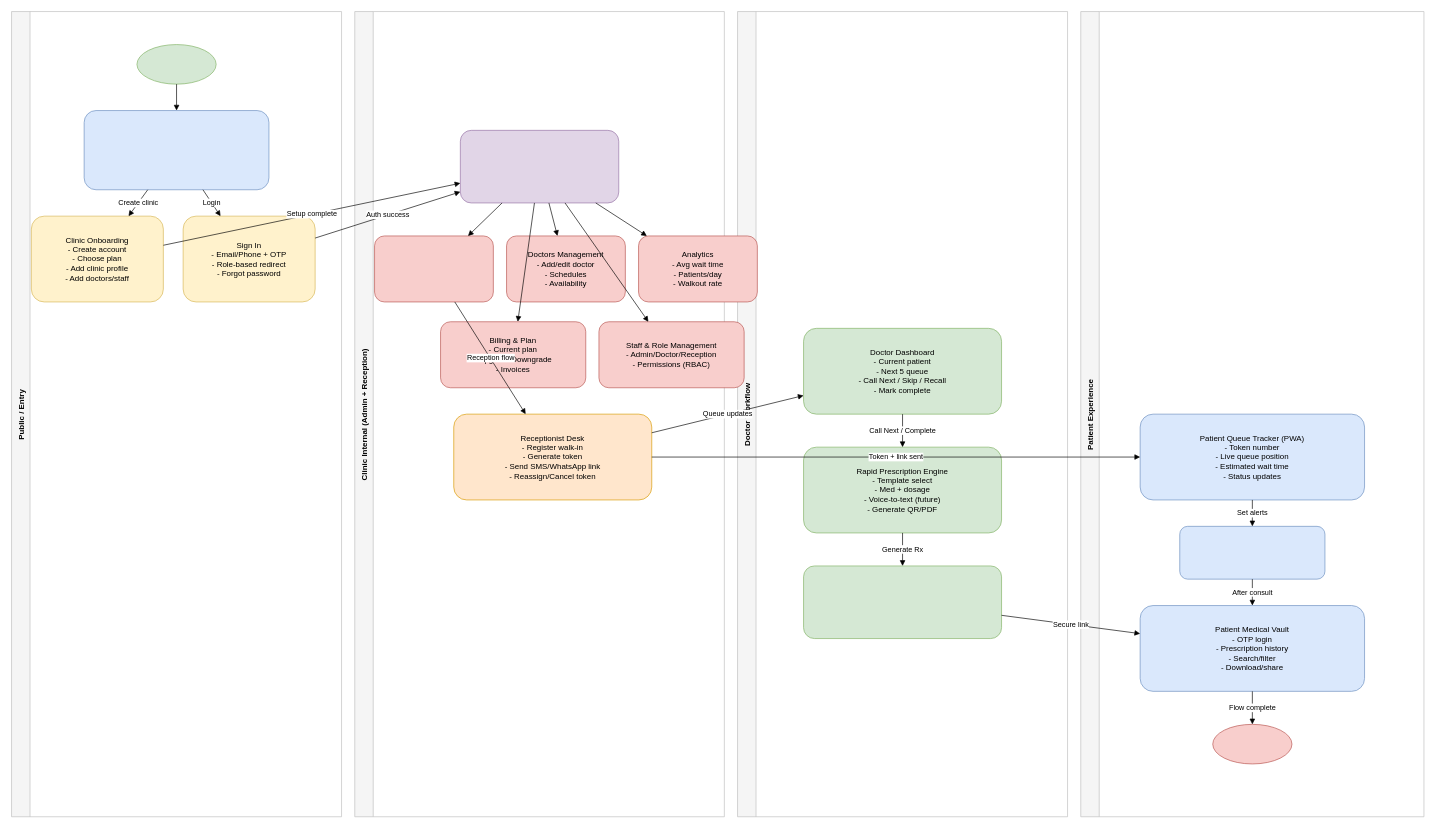
The diagram is 1436 pixels wide and 828 high, and some of its shapes have lost their labels. Here are the shapes that lost their labels. From the top down, the centre of each, then its label:
the point at 176,64: START
the point at 176,150: Landing / Marketing Site - Overview - Pricing - Book Demo - Clinic Login
the point at 539,166: Admin Dashboard - Queue snapshot - Doctor activity - Subscription status
the point at 433,268: Queue Management - Live queue - Token config - Counter setup
the point at 1252,552: Alert Preferences - SMS/WhatsApp near-turn alerts
the point at 902,602: Prescription Delivery - SMS/WhatsApp secure link - QR retrieval - PDF download
the point at 1252,744: END
